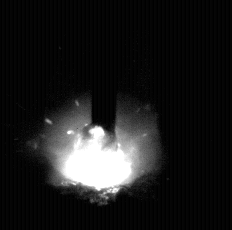arame: (92, 0, 117, 137)
poca: (33, 0, 163, 230)
